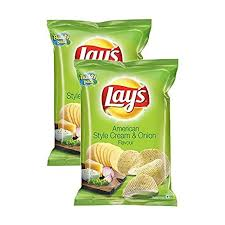lays-med: (76, 59, 173, 205)
